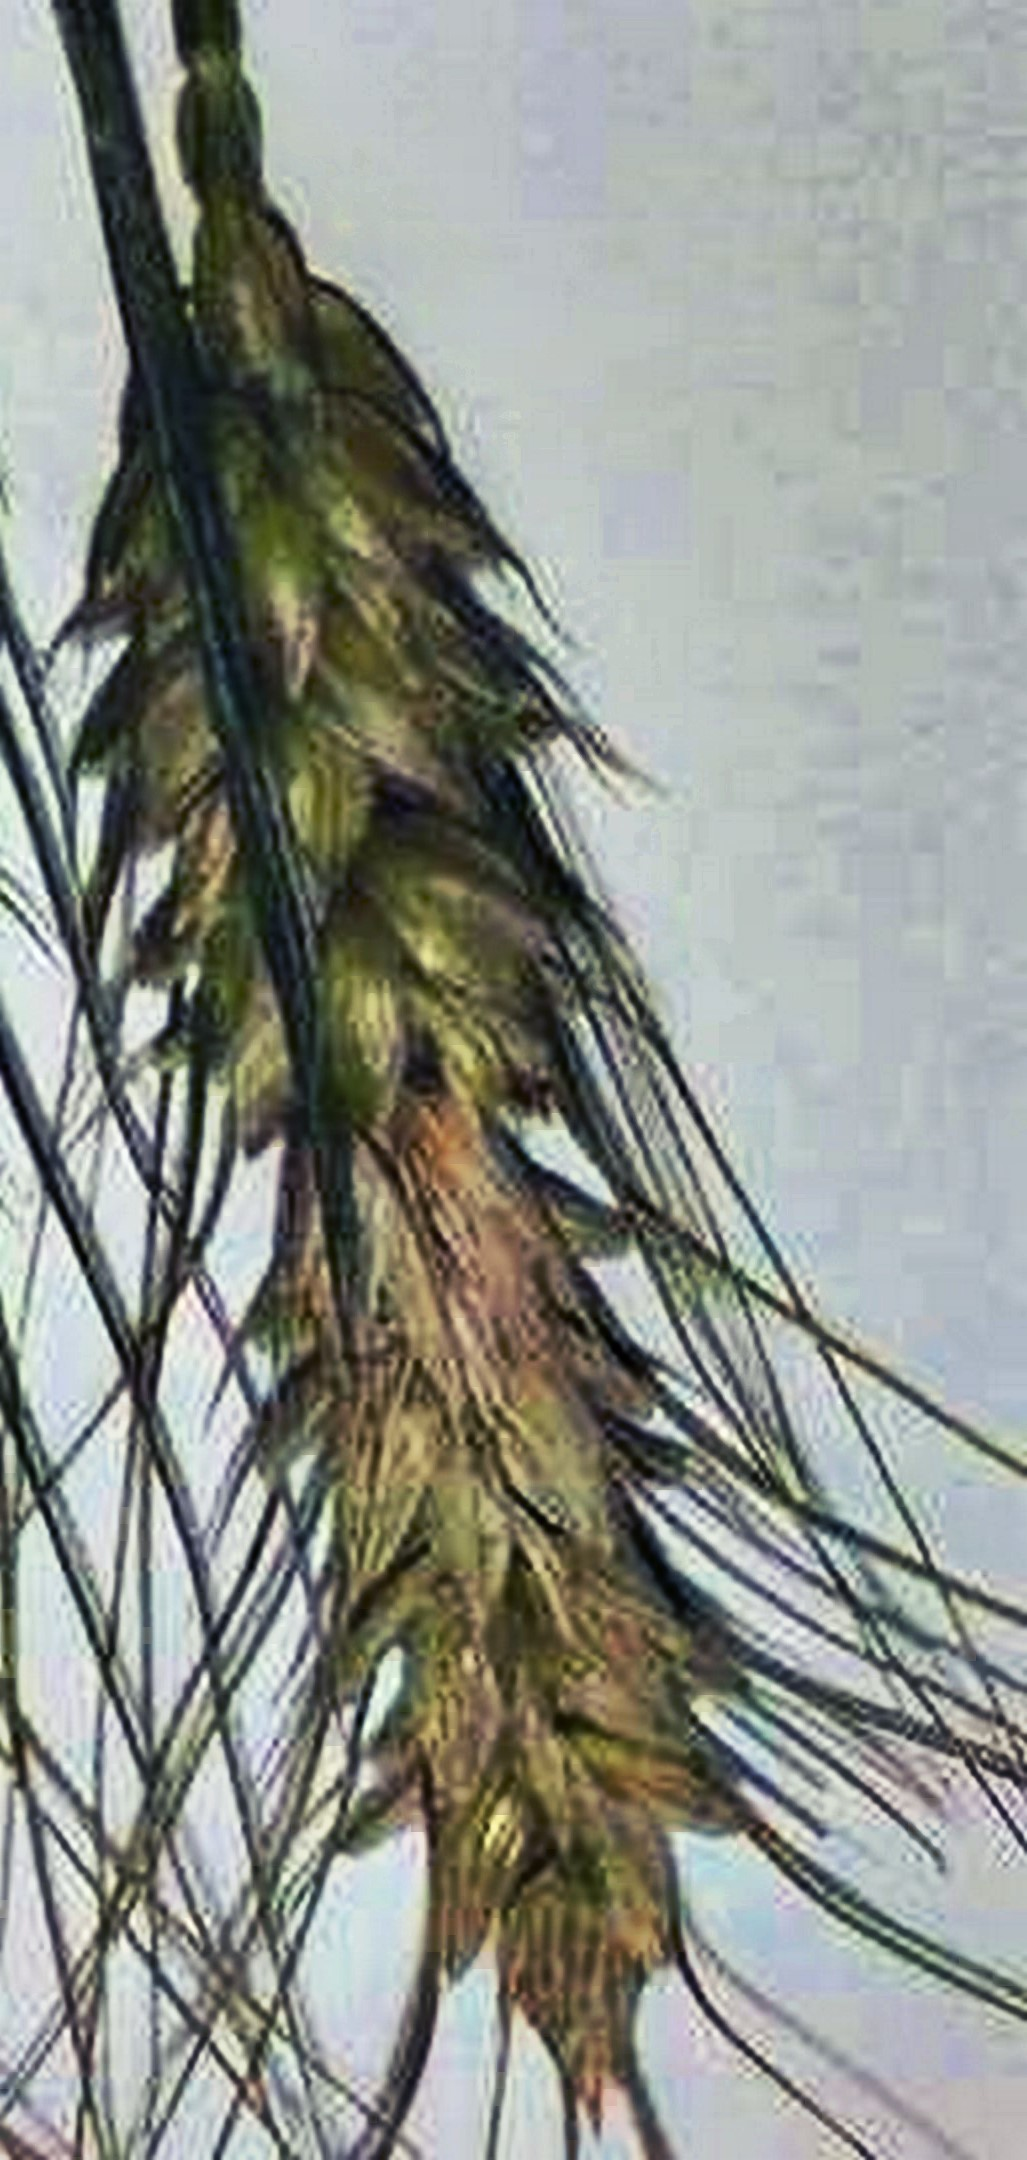Wheat scab: (98, 201, 782, 1977)
